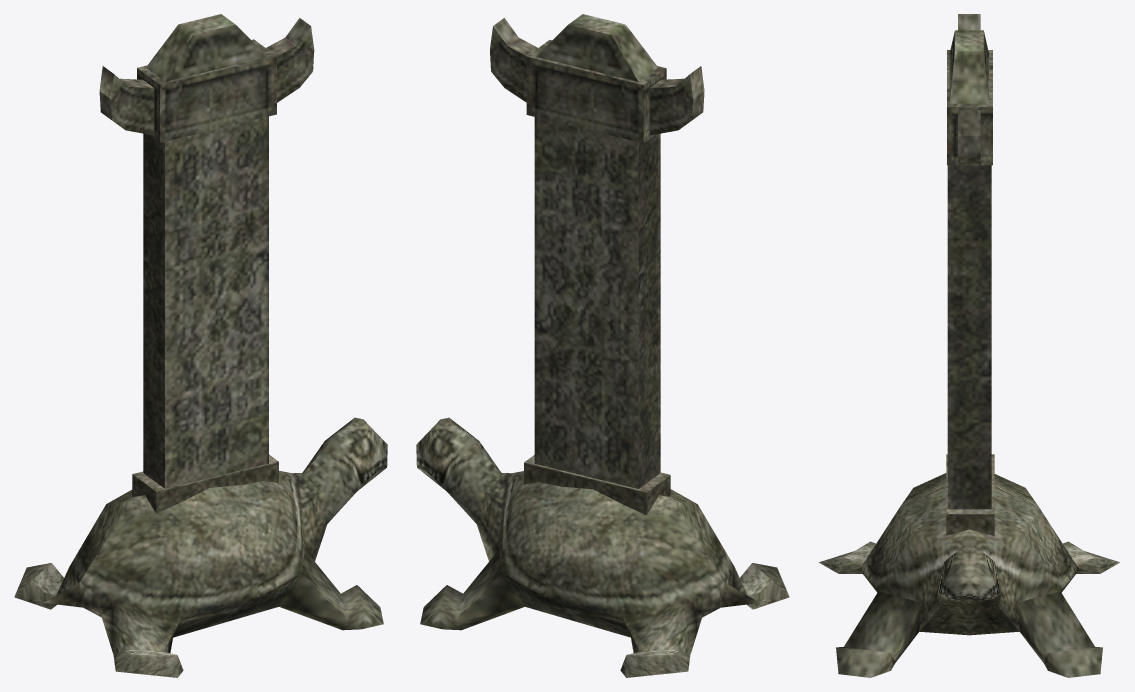
Rendered from ob-12-03gate04.glb.
3 renders of one model, left to right at view 1: azimuth 30°, elevation 25°; view 2: azimuth 150°, elevation 25°; view 3: azimuth 270°, elevation 25°, orthographic.
Visible parts, largest first — view 1: Sphere01; view 2: Sphere01; view 3: Sphere01.
Boxes of the visible parts, bbox=[...] form: Sphere01: bbox=[14, 14, 387, 677]; Sphere01: bbox=[416, 14, 789, 677]; Sphere01: bbox=[819, 14, 1119, 677].
Bounding box in the file's own units: 4.72 × 7.59 × 3.59.
1 material, 1 textured.
